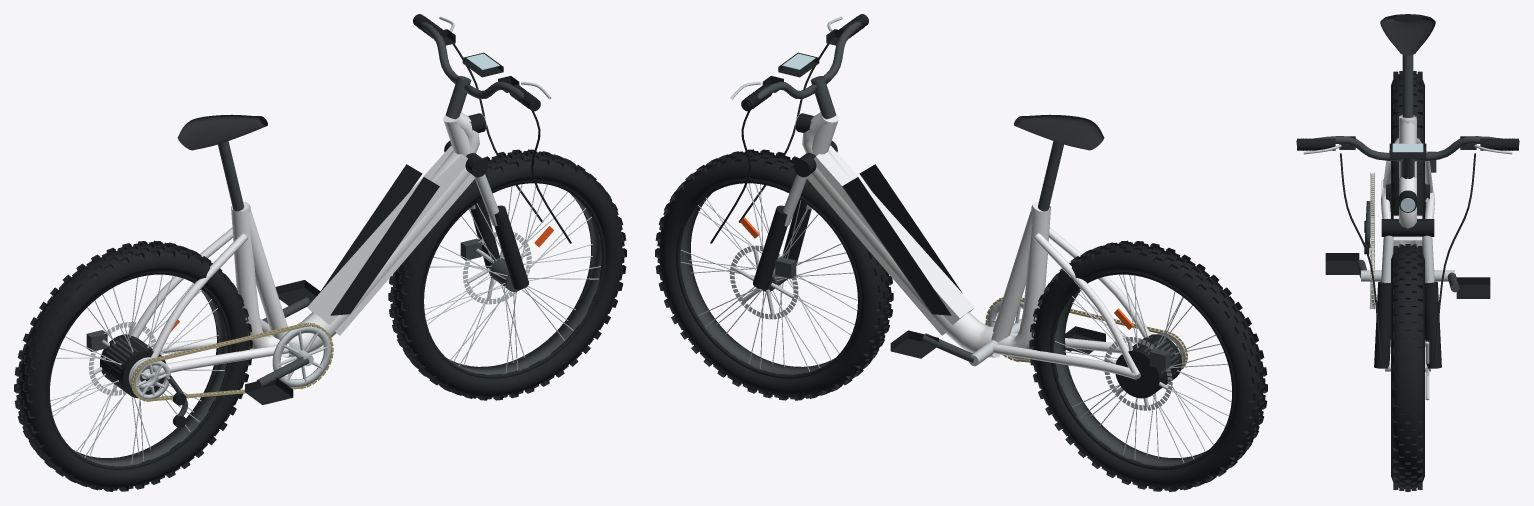
File: lectric-xpeak.glb
3 views of the same model, side by side, from view 1: azimuth 30°, elevation 25°; view 2: azimuth 150°, elevation 25°; view 3: azimuth 270°, elevation 25° (orthographic). The views are drawn at different scales.
Parts seen in each view (by area): view 1: RearWheel | rubber, FrontWheel | rubber, Chassis | white, BatteryMount | white, BatteryMount | black, FrontWheel | steel, FrontWheel | graphite, RearWheel | steel, Drive | steel, RearWheel | graphite, Fork | black, FrontWheel | black (+10 smaller); view 2: RearWheel | rubber, FrontWheel | rubber, Chassis | white, BatteryMount | white, BatteryMount | black, FrontWheel | steel, RearWheel | steel, RearWheel | graphite, FrontWheel | graphite, Fork | black, FrontWheel | black, RearWheel | black (+9 smaller); view 3: FrontWheel | rubber, Fork | black, RearWheel | rubber, Cockpit | rubber, Chassis | white, Bodywork | seat, Drive | black, Cockpit | graphite, Fork | steel, Drive | steel, Cockpit | black, Chassis | graphite (+5 smaller).
Boxes of the visible parts, <box> form: RearWheel | rubber: <box>14,240,252,491</box>; FrontWheel | rubber: <box>388,149,626,400</box>; Chassis | white: <box>132,112,479,379</box>; BatteryMount | white: <box>281,145,474,357</box>; BatteryMount | black: <box>319,164,439,315</box>; FrontWheel | steel: <box>424,184,600,372</box>; FrontWheel | graphite: <box>448,193,602,374</box>; RearWheel | steel: <box>50,274,224,464</box>; Drive | steel: <box>128,319,331,399</box>; RearWheel | graphite: <box>74,288,227,466</box>; Fork | black: <box>444,141,528,289</box>; FrontWheel | black: <box>422,181,605,378</box>; RearWheel | rubber: <box>1029,240,1267,491</box>; FrontWheel | rubber: <box>655,149,893,400</box>; Chassis | white: <box>802,112,1151,379</box>; BatteryMount | white: <box>807,145,1000,357</box>; BatteryMount | black: <box>842,164,962,315</box>; FrontWheel | steel: <box>680,183,857,371</box>; RearWheel | steel: <box>1055,274,1231,462</box>; RearWheel | graphite: <box>1053,288,1207,466</box>; FrontWheel | graphite: <box>679,193,833,374</box>; Fork | black: <box>753,141,837,289</box>; FrontWheel | black: <box>676,181,859,378</box>; RearWheel | black: <box>1050,272,1233,469</box>; FrontWheel | rubber: <box>1391,244,1424,491</box>; Fork | black: <box>1374,219,1441,368</box>; RearWheel | rubber: <box>1391,71,1424,218</box>; Cockpit | rubber: <box>1297,138,1518,361</box>; Chassis | white: <box>1381,115,1434,228</box>; Bodywork | seat: <box>1380,14,1435,55</box>; Drive | black: <box>1325,221,1490,298</box>; Cockpit | graphite: <box>1296,136,1519,178</box>; Fork | steel: <box>1381,235,1434,282</box>; Drive | steel: <box>1361,173,1454,308</box>; Cockpit | black: <box>1303,136,1512,158</box>; Chassis | graphite: <box>1402,55,1413,117</box>.
Size of the model in its own units: 1.96 by 1.07 by 0.6634.
